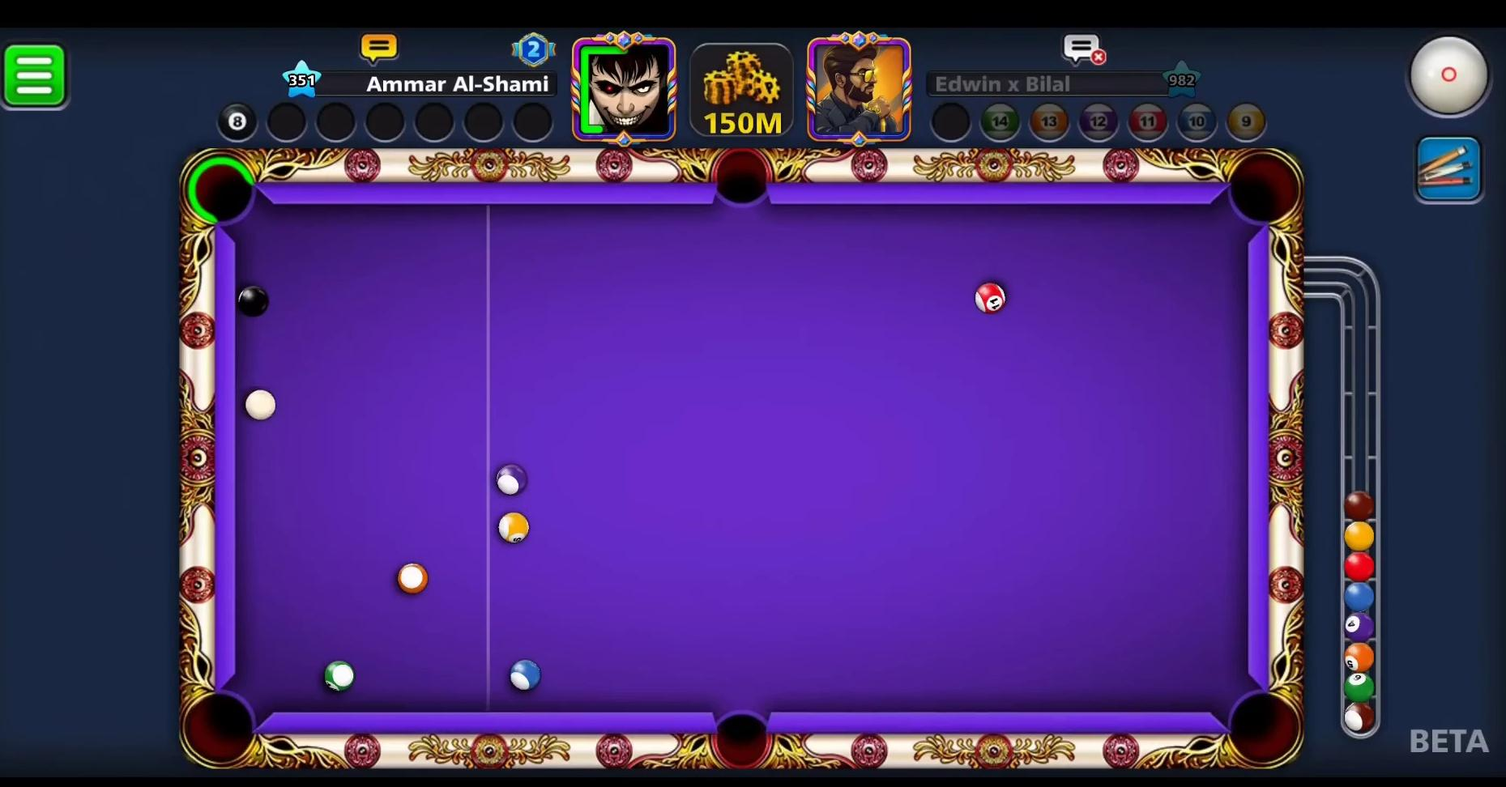Ball: (497, 653, 547, 698), (225, 283, 279, 324), (390, 560, 438, 602), (315, 657, 364, 697), (488, 460, 535, 500), (971, 277, 1009, 320), (494, 509, 535, 547)
Hole: (165, 679, 272, 775), (1210, 675, 1309, 776), (176, 143, 267, 235), (696, 687, 790, 775), (1217, 143, 1307, 234), (698, 142, 783, 219)
Play_Area: (231, 204, 1248, 713)
Spin: (1402, 27, 1504, 129)
White: (238, 385, 284, 423)
